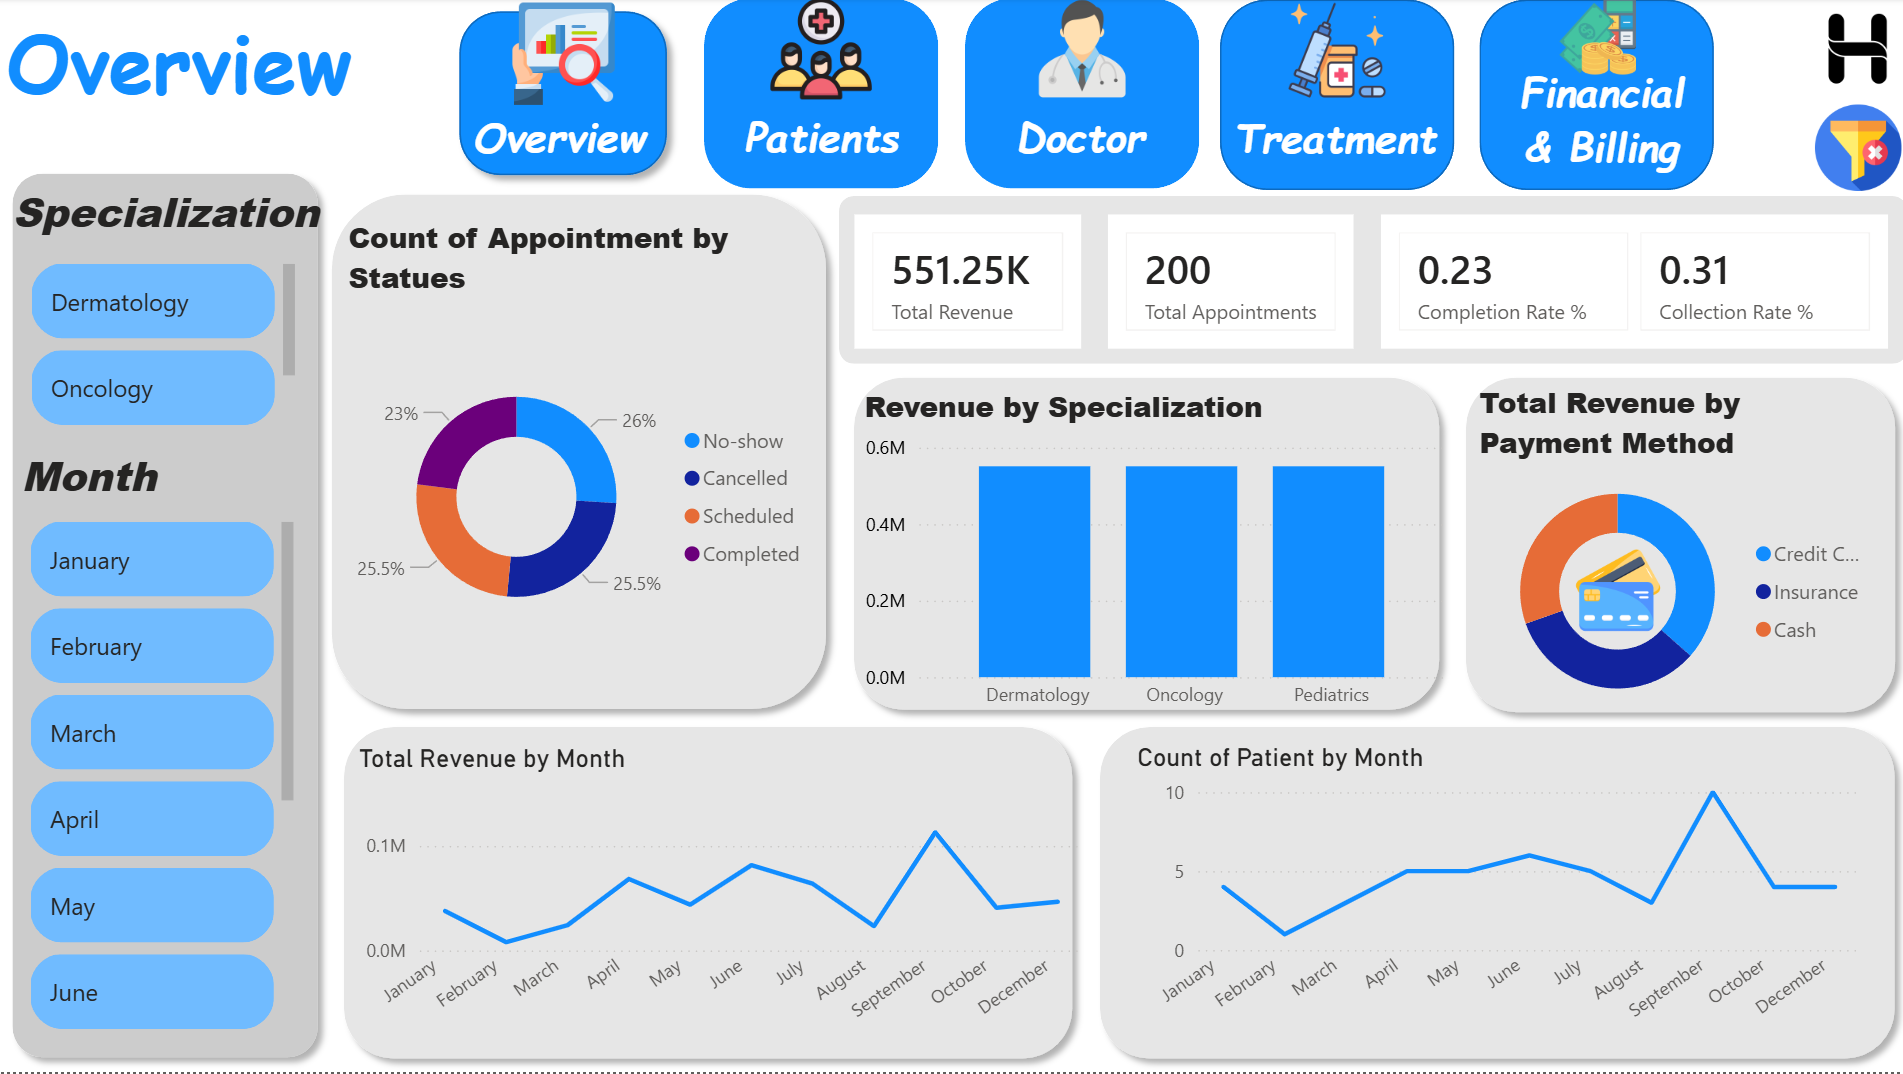

The dashboard page shown, as its layout file describes it:
{"tool":"powerbi","page":{"name":"Overview","canvas":[1280,720],"ordinal":1},"visuals":[{"type":"textbox","box":[0,0,245.7,87.5],"z":0},{"type":"group","id":"g1","title":"Group 1","box":[472.9,0,157.3,127.8],"z":1000},{"type":"shape","box":[299.7,0,157.1,127.8],"z":2000,"group":"g2"},{"type":"shape","box":[472.9,0,157.1,127.8],"z":2000,"group":"g1"},{"type":"shape","box":[647.7,0,157.1,127.8],"z":2000,"group":"g3"},{"type":"shape","box":[818.5,1,157.1,127.8],"z":2000,"group":"g4"},{"type":"shape","box":[992.9,1.1,157.1,127.8],"z":2000,"group":"g5"},{"type":"shape","box":[0,108.6,222.7,610.7],"z":2000},{"type":"image","box":[1039.1,-0.1,65.8,51.5],"z":3000,"group":"g5"},{"type":"image","box":[504.5,0,94.9,68],"z":3000,"group":"g1"},{"type":"image","box":[679.3,0,94.9,68],"z":3000,"group":"g3"},{"type":"image","box":[850.1,1,94.9,68],"z":3000,"group":"g4"},{"type":"image","box":[330.9,3,95.5,68.4],"z":3000,"group":"g2"},{"type":"advancedSlicerVisual","fields":{"Values":["Doctor.Specialization"]},"box":[16.8,173.1,187,118.7],"z":3000},{"type":"textbox","box":[997.4,38.4,155.6,85.5],"z":4000,"group":"g5"},{"type":"textbox","box":[495.2,68,113.7,49.2],"z":4000,"group":"g1"},{"type":"textbox","box":[313.1,68.4,133.8,49.3],"z":4000,"group":"g2"},{"type":"textbox","box":[676.9,68.4,106.6,49.3],"z":4000,"group":"g3"},{"type":"textbox","box":[822.8,69.1,155.4,50],"z":4000,"group":"g4"},{"type":"textbox","box":[3.6,119.2,219.3,55.1],"z":4000},{"type":"shape","box":[729.1,479.4,550.9,240.3],"z":5000},{"type":"shape","box":[974.2,245.7,305.8,242.5],"z":6000},{"type":"donutChart","title":"Total Revenue by Payment Method","fields":{"Y":["MeasuresTable.Total Revenue"],"Category":["Billing.Payment_Method"]},"box":[987.6,257.7,274.5,226.5],"z":7000},{"type":"image","box":[1047.5,366.7,77.9,59.9],"z":8000},{"type":"shape","box":[563.9,245.8,410.4,240.8],"z":9000},{"type":"shape","box":[222.7,479.4,506.4,240.3],"z":10000},{"type":"shape","box":[214.6,122.3,349.3,363],"z":11000},{"type":"clusteredColumnChart","title":"Revenue by Specialization","fields":{"Y":["MeasuresTable.Total Revenue"],"Category":["Doctor.Specialization"]},"box":[575.1,260.7,401.7,224.6],"z":12000},{"type":"donutChart","title":"Count of Appointment by Statues","fields":{"Y":["CountNonNull(Appointment.Appointment_ID)"],"Category":["Appointment.Statue"]},"box":[229.5,146.6,322.5,321.3],"z":13000},{"type":"lineChart","title":"Total Revenue by Month","fields":{"Y":["MeasuresTable.Total Revenue"],"Category":["Calendar.Month Name"]},"box":[235.9,499.8,494.7,201.4],"z":14000},{"type":"shape","box":[563.5,133.2,716.5,112.5],"z":15000},{"type":"cardVisual","fields":{"Data":["MeasuresTable.Total Revenue"]},"box":[567.9,139.4,163,100.5],"z":16000},{"type":"cardVisual","fields":{"Data":["MeasuresTable.Total Appointments"]},"box":[738.1,139.4,175.3,100.5],"z":17000},{"type":"cardVisual","fields":{"Data":["MeasuresTable.Completion Rate %","MeasuresTable.Collection Rate %"]},"box":[921.6,139.4,350.6,100.5],"z":18000},{"type":"textbox","box":[9.6,295.3,131.8,55.1],"z":19000},{"type":"advancedSlicerVisual","fields":{"Values":["DateTable.Month Name"]},"box":[16.4,345.5,186.8,354.9],"z":20000},{"type":"group","id":"g2","title":"Group 1","box":[299.7,0,157.1,127.8],"z":21000},{"type":"lineChart","title":"Count of Patient by Month","fields":{"Y":["MeasuresTable.Total Patients"],"Category":["Patient.Registeration_Date.Variation.Date Hierarchy.Month"]},"box":[758.4,498.9,493.8,202.2],"z":22000},{"type":"group","id":"g3","title":"Group 1","box":[647.7,0,157.1,127.8],"z":23000},{"type":"group","id":"g4","title":"Group 1","box":[818.5,1,159.6,127.8],"z":24000},{"type":"image","box":[1213.2,0,66.8,67.9],"z":25000},{"type":"group","id":"g5","title":"Group 1","box":[992.9,-0.1,160.1,129],"z":26000},{"type":"image","box":[1213.2,71.2,66.8,58.1],"z":27000}]}

Visuals, with their boxes in screenshot pixels (x1, y1, x2, y2), scaled from the page's 1280x720 canvas onto the 1903x1074 screenshot:
textbox: select_region(0, 0, 365, 131)
"Group 1" group: select_region(703, 0, 937, 191)
shape: select_region(446, 0, 679, 191)
shape: select_region(703, 0, 937, 191)
shape: select_region(963, 0, 1197, 191)
shape: select_region(1217, 1, 1450, 192)
shape: select_region(1476, 2, 1710, 192)
shape: select_region(0, 162, 331, 1073)
image: select_region(1545, 0, 1643, 77)
image: select_region(750, 0, 891, 101)
image: select_region(1010, 0, 1151, 101)
image: select_region(1264, 1, 1405, 103)
image: select_region(492, 4, 634, 107)
advancedSlicerVisual - Doctor.Specialization: select_region(25, 258, 303, 435)
textbox: select_region(1483, 57, 1714, 185)
textbox: select_region(736, 101, 905, 175)
textbox: select_region(465, 102, 664, 176)
textbox: select_region(1006, 102, 1165, 176)
textbox: select_region(1223, 103, 1454, 178)
textbox: select_region(5, 178, 331, 260)
shape: select_region(1084, 715, 1902, 1073)
shape: select_region(1448, 367, 1902, 728)
"Total Revenue by Payment Method" donutChart: select_region(1468, 384, 1876, 722)
image: select_region(1557, 547, 1673, 636)
shape: select_region(838, 367, 1449, 726)
shape: select_region(331, 715, 1084, 1073)
shape: select_region(319, 182, 838, 724)
"Revenue by Specialization" clusteredColumnChart: select_region(855, 389, 1452, 724)
"Count of Appointment by Statues" donutChart: select_region(341, 219, 821, 698)
"Total Revenue by Month" lineChart: select_region(351, 746, 1086, 1046)
shape: select_region(838, 199, 1902, 367)
cardVisual - MeasuresTable.Total Revenue: select_region(844, 208, 1087, 358)
cardVisual - MeasuresTable.Total Appointments: select_region(1097, 208, 1358, 358)
cardVisual - MeasuresTable.Completion Rate % x MeasuresTable.Collection Rate %: select_region(1370, 208, 1891, 358)
textbox: select_region(14, 440, 210, 523)
advancedSlicerVisual - DateTable.Month Name: select_region(24, 515, 302, 1045)
"Group 1" group: select_region(446, 0, 679, 191)
"Count of Patient by Month" lineChart: select_region(1128, 744, 1862, 1046)
"Group 1" group: select_region(963, 0, 1197, 191)
"Group 1" group: select_region(1217, 1, 1454, 192)
image: select_region(1804, 0, 1902, 101)
"Group 1" group: select_region(1476, 0, 1714, 192)
image: select_region(1804, 106, 1902, 193)
